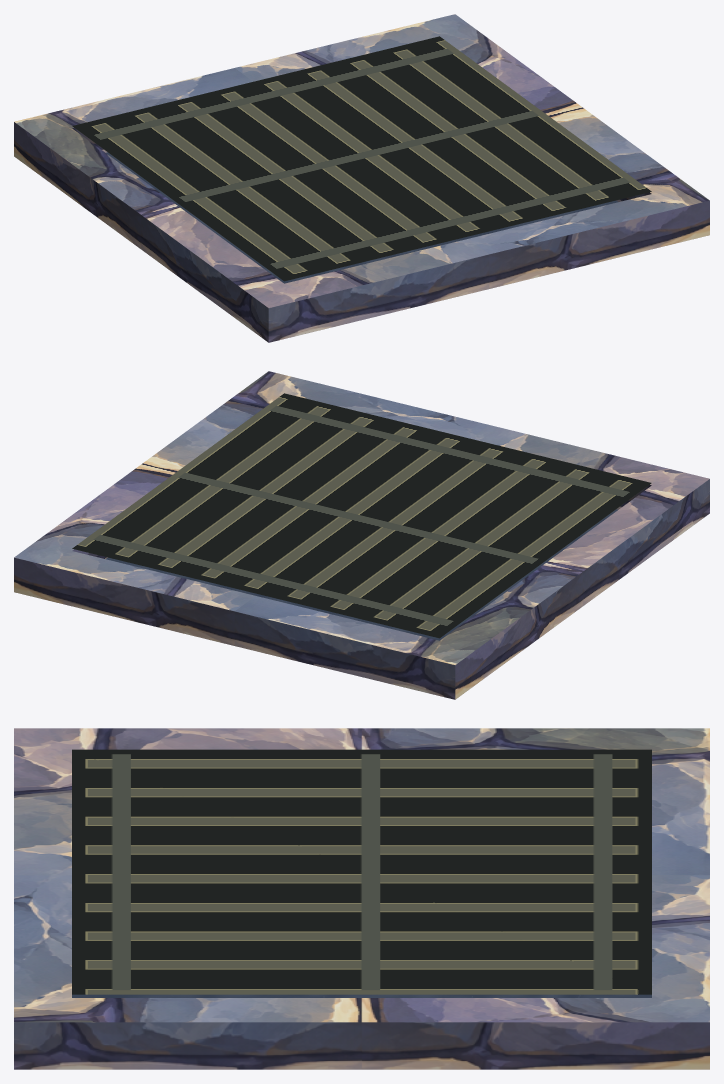
Rendered from Drain_Grate.fbx.
The picture shows the model from 3 angles, top to bottom: view 1: azimuth 30°, elevation 25°; view 2: azimuth 150°, elevation 25°; view 3: azimuth 270°, elevation 25°; orthographic projection. The views are drawn at different scales.
Parts seen in each view (by area): view 1: Drain_Grate.001; view 2: Drain_Grate.001; view 3: Drain_Grate.001.
Boxes of the visible parts, x1,y1,x2,y2 form: Drain_Grate.001: (14, 14, 709, 342); Drain_Grate.001: (14, 371, 709, 699); Drain_Grate.001: (14, 728, 709, 1069).
Size of the model in its own units: 120 by 9.6 by 120.
3 materials, 3 textured.
